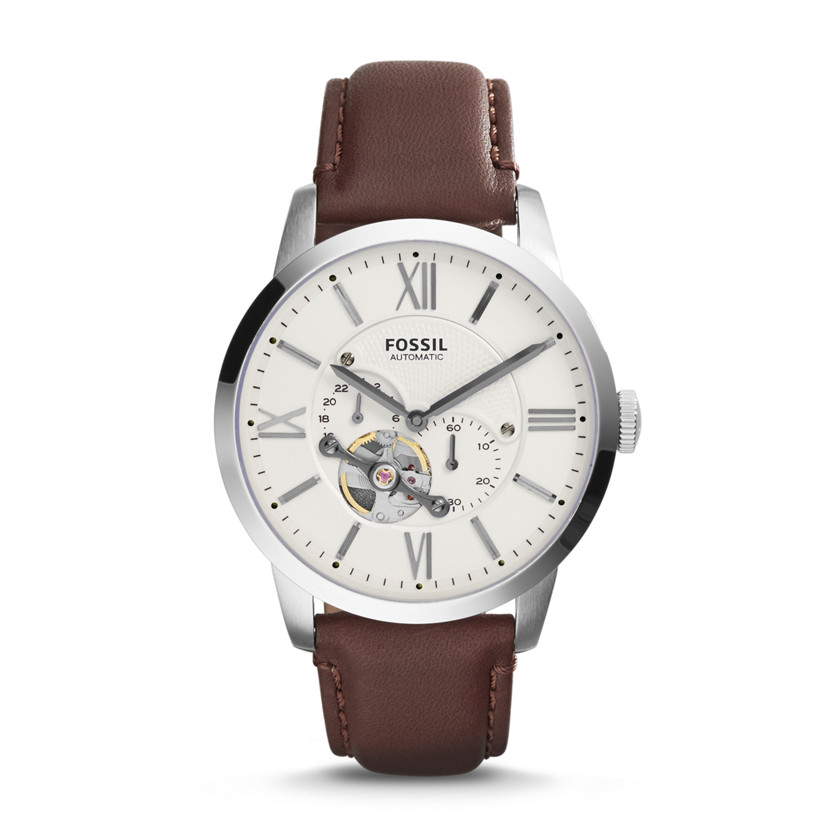clock: (237, 241, 599, 603)
